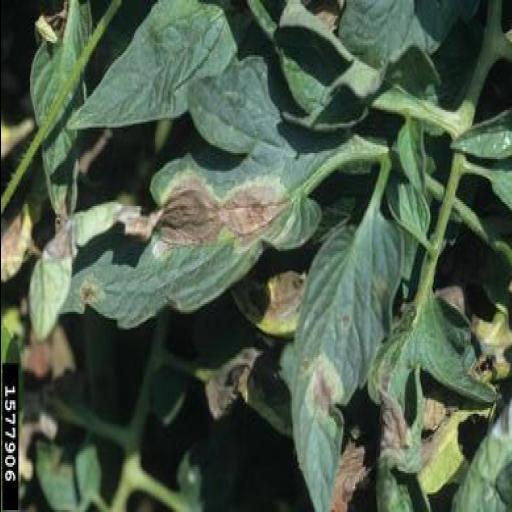Late Blight: (84, 59, 386, 337), (283, 194, 395, 512)
